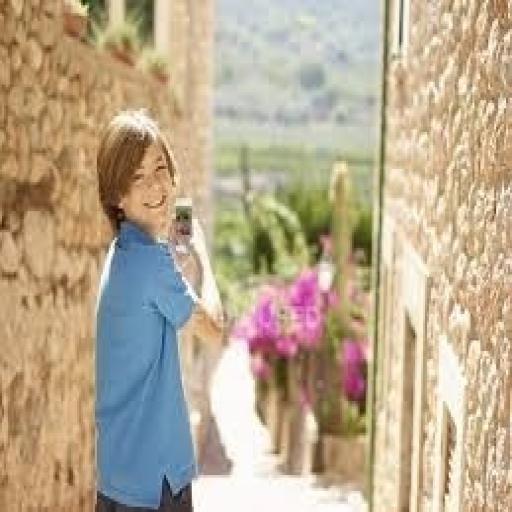texting: (89, 106, 229, 510)
